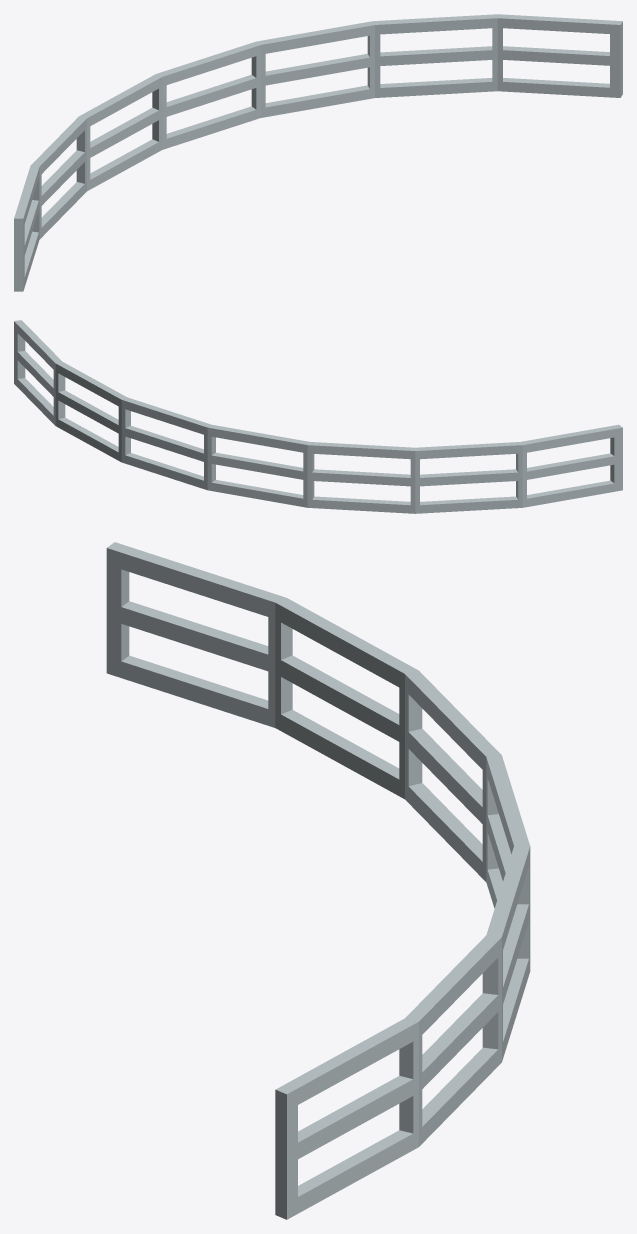
The model's file is WhiteMetalWallLargeCurvedGuardRail1.fbx.
3 renders of one model, top to bottom at view 1: azimuth 30°, elevation 25°; view 2: azimuth 150°, elevation 25°; view 3: azimuth 270°, elevation 25°, orthographic. The views are drawn at different scales.
Visible parts, largest first — view 1: WhiteMetalWallLargeCurvedGuardRail1; view 2: WhiteMetalWallLargeCurvedGuardRail1; view 3: WhiteMetalWallLargeCurvedGuardRail1.
Part boxes in pixels (bbox=[...]): WhiteMetalWallLargeCurvedGuardRail1: bbox=[14, 14, 622, 291]; WhiteMetalWallLargeCurvedGuardRail1: bbox=[14, 320, 622, 513]; WhiteMetalWallLargeCurvedGuardRail1: bbox=[106, 542, 530, 1219].
Bounding box in the file's own units: 1416 × 150 × 459.
Materials: 1 (1 with a texture image).
